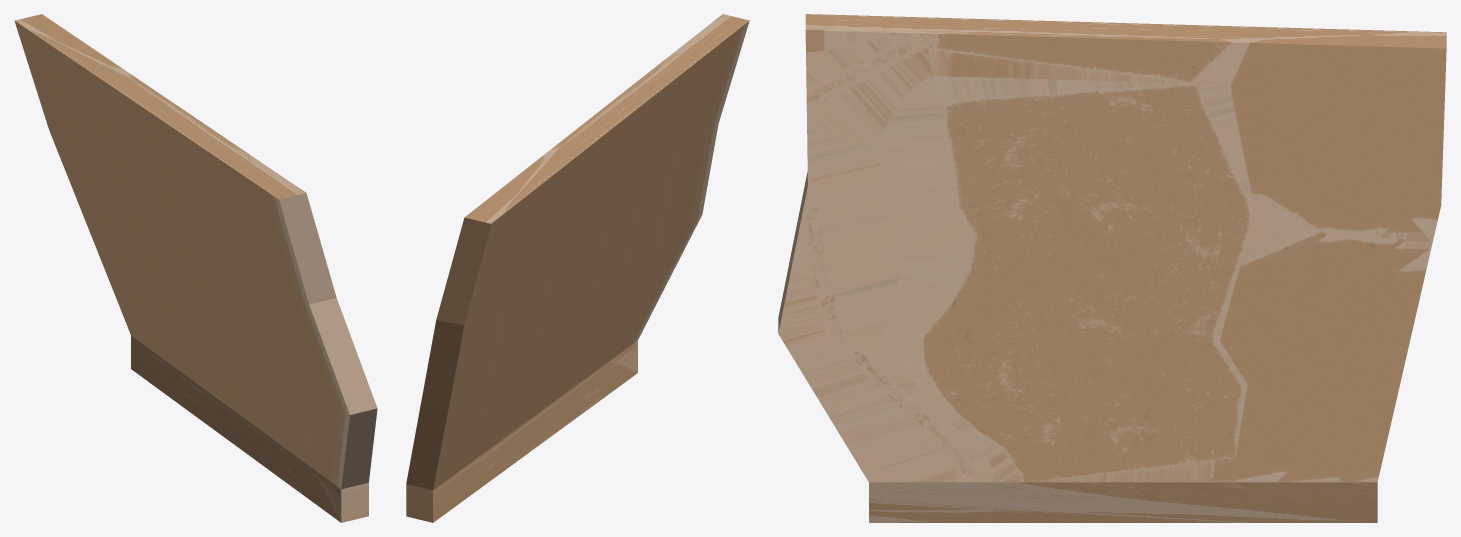
Rendered from JackCardboard.fbx.
3 renders of one model, left to right at view 1: azimuth 30°, elevation 25°; view 2: azimuth 150°, elevation 25°; view 3: azimuth 270°, elevation 25°, orthographic. The views are drawn at different scales.
Parts seen in each view (by area): view 1: ParteRotacional; view 2: ParteRotacional; view 3: ParteRotacional.
Part boxes in pixels (box(x1,y1,x2,y2)): ParteRotacional: box(14, 14, 377, 522); ParteRotacional: box(406, 14, 749, 522); ParteRotacional: box(778, 14, 1446, 522).
Size of the model in its own units: 63.72 by 191 by 263.
